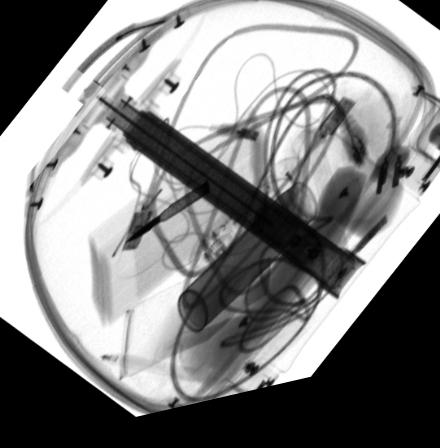Bullet: (125, 188, 210, 249)
